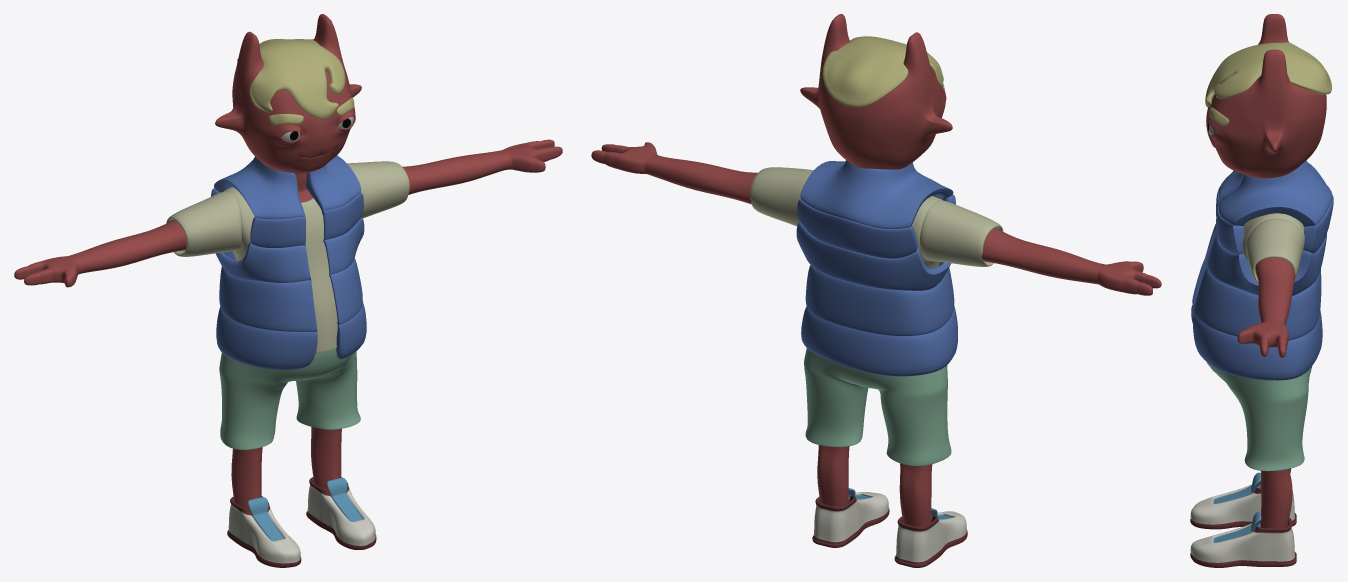
File: Main_char.fbx
3 renders of one model, left to right at view 1: azimuth 30°, elevation 25°; view 2: azimuth 150°, elevation 25°; view 3: azimuth 270°, elevation 25°, orthographic. The views are drawn at different scales.
Visible parts, largest first — view 1: shirt, Body0, Pants, Shoe_L, Shoe_R; view 2: shirt, Body0, Pants, Shoe_R, Shoe_L; view 3: shirt, Body0, Pants, Shoe_R, Shoe_L.
Part boxes in pixels (box(x1,y1,x2,y2)): shirt: box(166, 155, 409, 369); Body0: box(14, 14, 562, 508); Pants: box(219, 348, 360, 449); Shoe_L: box(227, 496, 301, 567); Shoe_R: box(306, 477, 376, 549); shirt: box(750, 160, 1003, 376); Body0: box(591, 14, 1161, 526); Pants: box(804, 348, 951, 466); Shoe_R: box(812, 488, 889, 547); Shoe_L: box(894, 508, 967, 567); shirt: box(1191, 160, 1333, 380); Body0: box(1205, 14, 1331, 528); Pants: box(1206, 362, 1312, 471); Shoe_R: box(1190, 511, 1296, 567); Shoe_L: box(1190, 472, 1296, 529).
Bounding box in the file's own units: 22.52 × 20.08 × 5.13.
